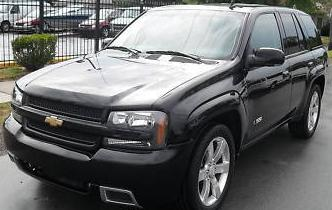front_view: (7, 83, 181, 205)
headlight: (100, 104, 170, 152)
side_glass: (251, 13, 300, 59)
